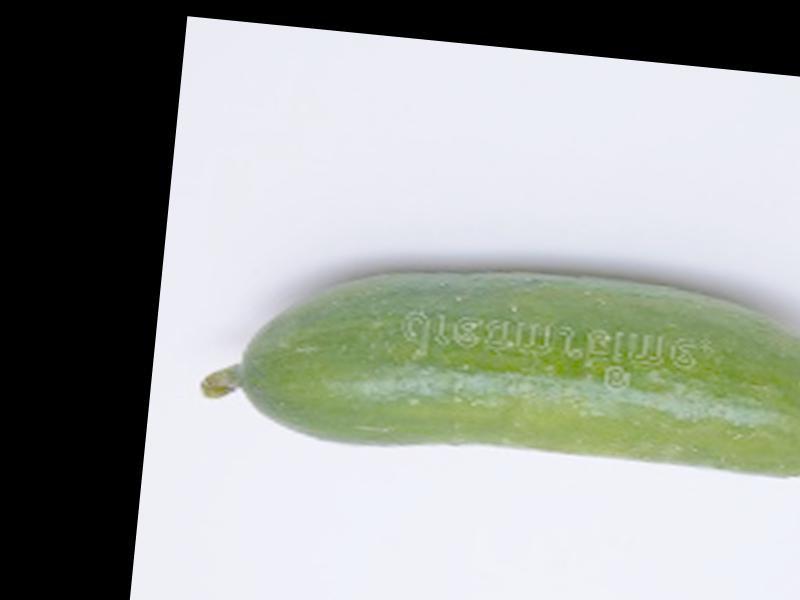Cucumber: (196, 238, 800, 493)
